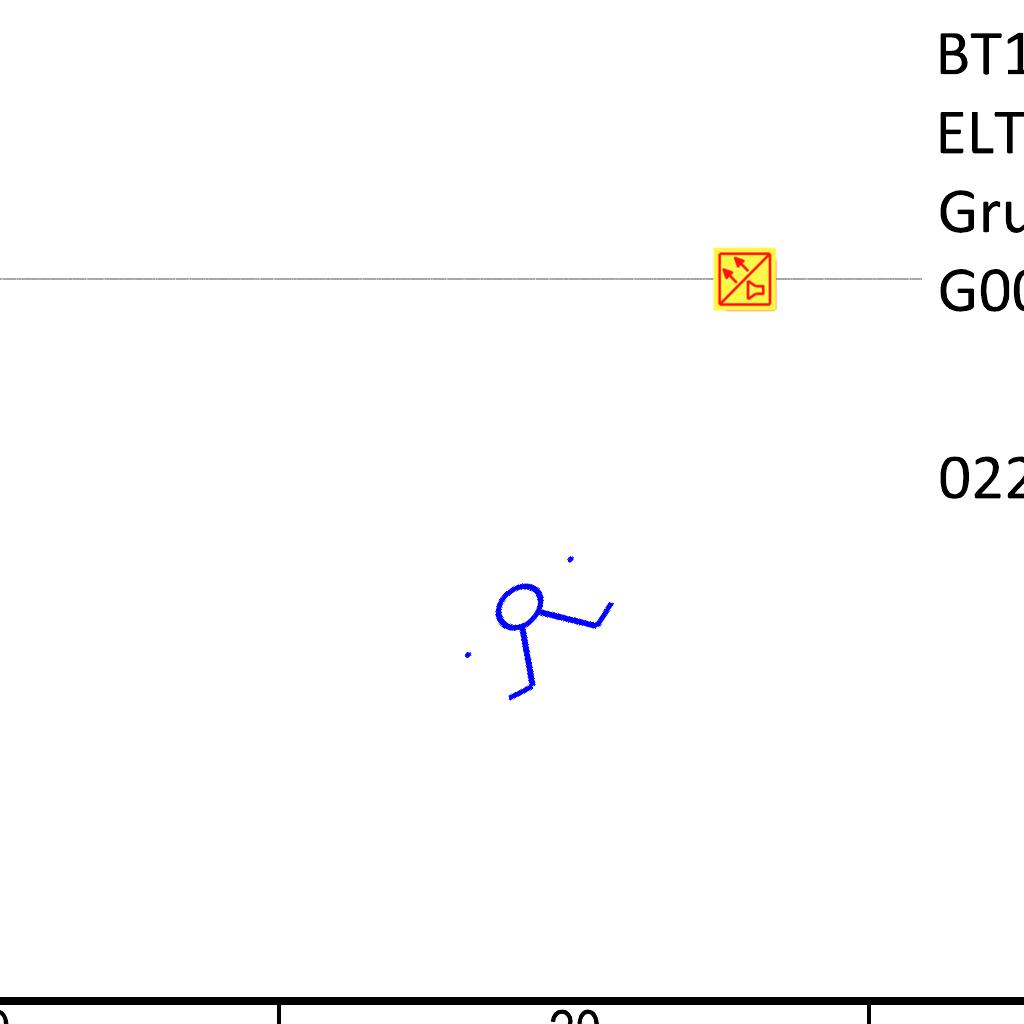OKW_Multisensormelder_(Kombination_optischer_Rauch-Kahlenmonoxid_Waerme-Melder): (712, 246, 778, 312)
Serienschalter: (443, 532, 633, 718)
